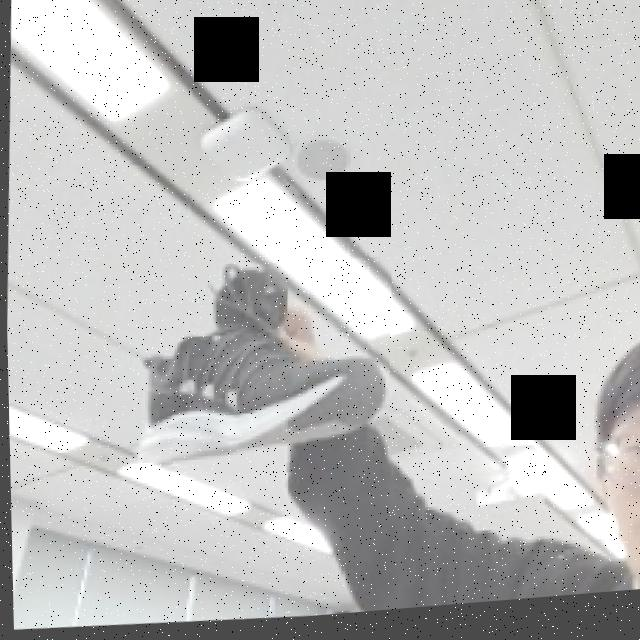shoe: (132, 254, 394, 492)
